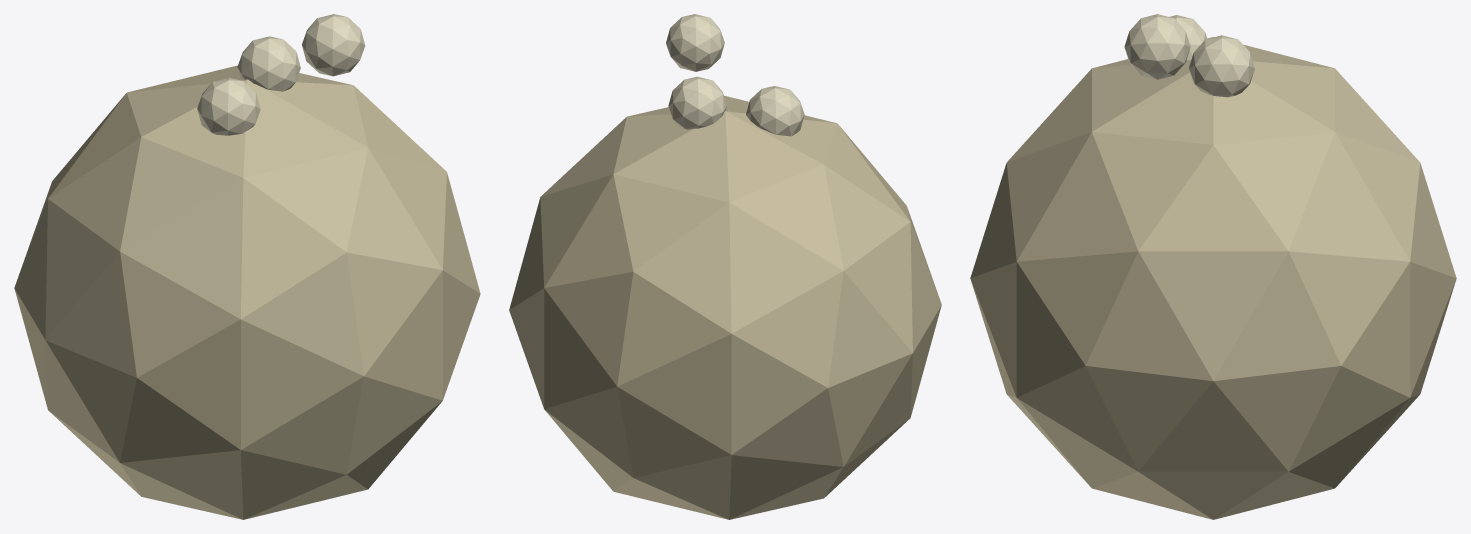
Rendered from origin_horror.glb.
3 renders of one model, left to right at view 1: azimuth 30°, elevation 25°; view 2: azimuth 150°, elevation 25°; view 3: azimuth 270°, elevation 25°, orthographic. The views are drawn at different scales.
Parts seen in each view (by area): view 1: geometry_0; view 2: geometry_0; view 3: geometry_0.
Part boxes in pixels (left/top/right/bottom): geometry_0: left=14, top=14, right=480, bottom=519; geometry_0: left=509, top=14, right=941, bottom=519; geometry_0: left=970, top=14, right=1456, bottom=519.
Bounding box in the file's own units: 0.88 × 1.02 × 0.88.
